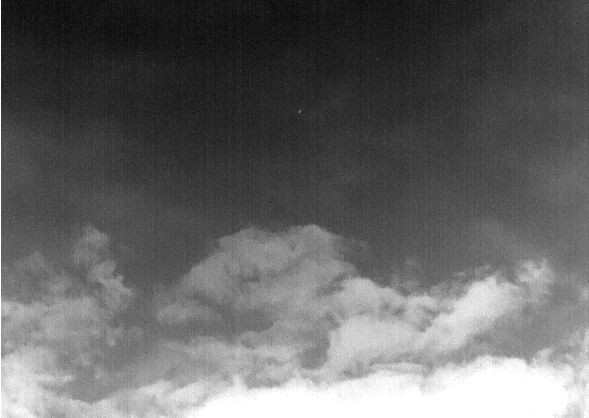dim target: (297, 109, 302, 114)
